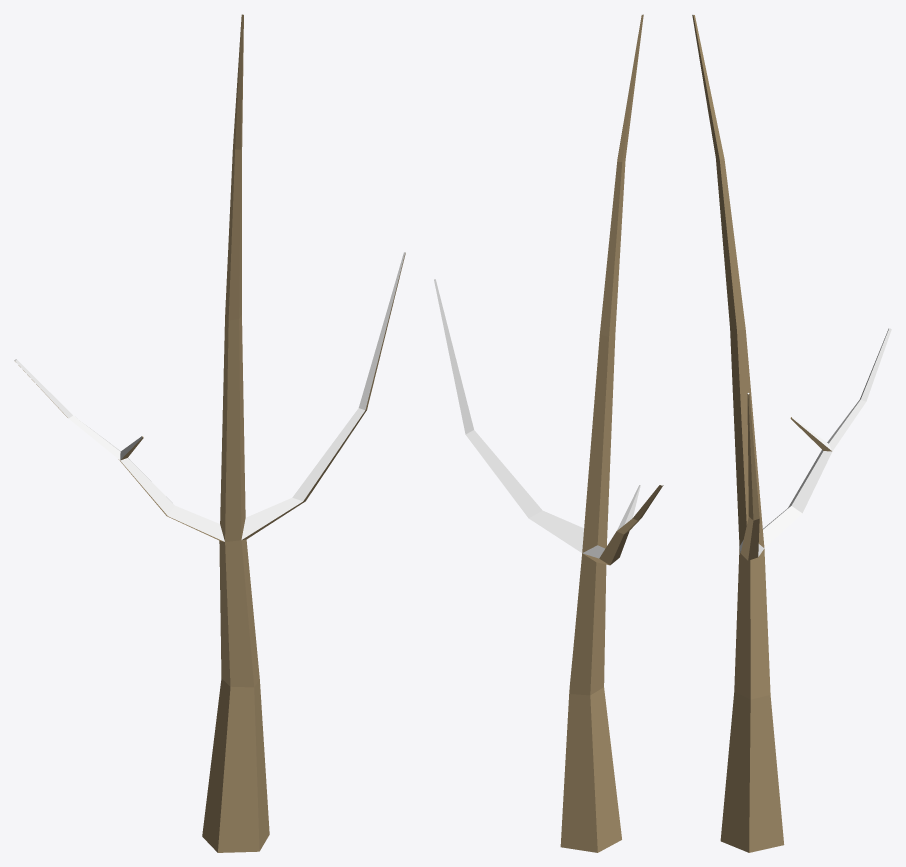
File: Random_Tree_NoLeaves_m_Snow_05.fbx
3 views of the same model, side by side, from view 1: azimuth 30°, elevation 25°; view 2: azimuth 150°, elevation 25°; view 3: azimuth 270°, elevation 25° (orthographic). The views are drawn at different scales.
Parts seen in each view (by area): view 1: Random_Tree_NoLeaves_m_Snow_05; view 2: Random_Tree_NoLeaves_m_Snow_05; view 3: Random_Tree_NoLeaves_m_Snow_05.
Part boxes in pixels (x1=…): Random_Tree_NoLeaves_m_Snow_05: x1=14, y1=14, x2=405, y2=852; Random_Tree_NoLeaves_m_Snow_05: x1=434, y1=14, x2=663, y2=852; Random_Tree_NoLeaves_m_Snow_05: x1=692, y1=14, x2=891, y2=852.
Size of the model in its own units: 354 by 913 by 203.
